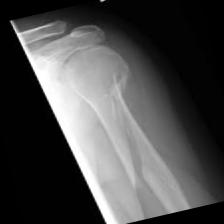spiral-fracture: (12, 0, 224, 224)
